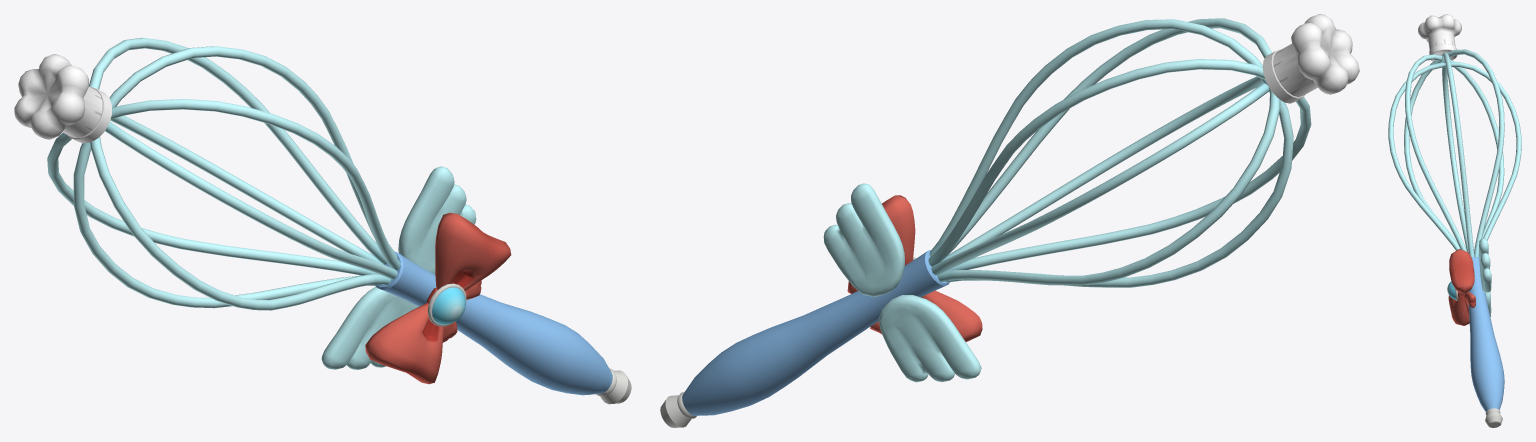
File: Nuts_Stick.fbx
3 views of the same model, side by side, from view 1: azimuth 30°, elevation 25°; view 2: azimuth 150°, elevation 25°; view 3: azimuth 270°, elevation 25° (orthographic). The views are drawn at different scales.
Visible parts, largest first — view 1: Stick, LeftWing, RightWing; view 2: Stick, RightWing, LeftWing; view 3: Stick, LeftWing.
Part boxes in pixels (x1=…): Stick: x1=14, y1=37, x2=631, y2=404; LeftWing: x1=398, y1=166, x2=476, y2=274; RightWing: x1=321, y1=286, x2=418, y2=369; Stick: x1=660, y1=14, x2=1359, y2=427; RightWing: x1=878, y1=295, x2=981, y2=382; LeftWing: x1=823, y1=183, x2=904, y2=296; Stick: x1=1388, y1=14, x2=1521, y2=427; LeftWing: x1=1479, y1=238, x2=1491, y2=292.
Size of the model in its own units: 24.73 by 18.99 by 8.67.
Materials: 1 (1 with a texture image).
